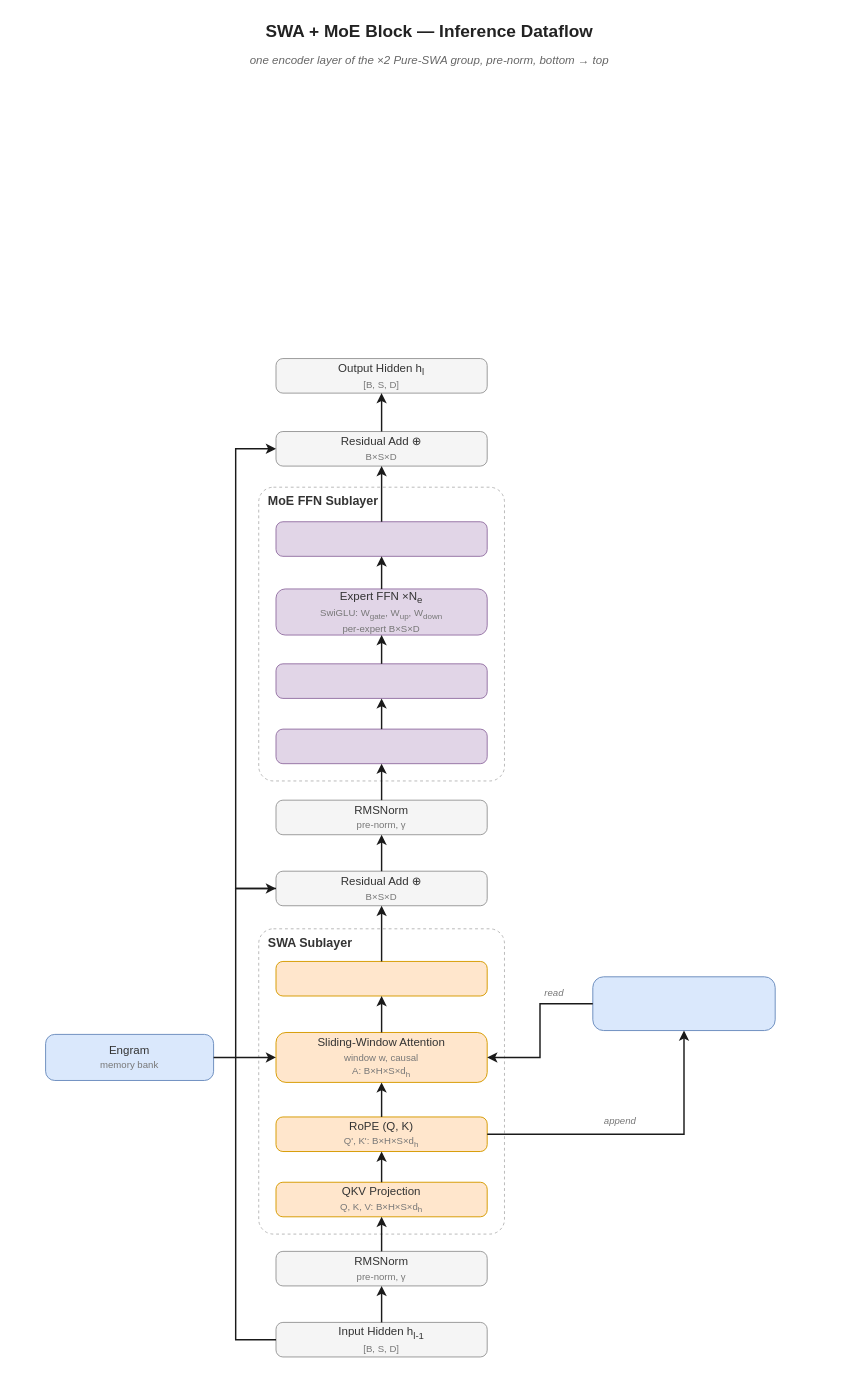
Image size: 858x1374. Some labels were removed from this diagram. The centre of each missing label's shape, as x and y in pixels:
"Expert Dispatch gather by expert" belongs at (381,680).
"KV Cache append, window evict B×H×w×d h" belongs at (683,1003).
"Output Projection W o B×S×D" belongs at (381,978).
"Router / Gate top-k → idx, w: B×S×k" belongs at (381,746).
"Weighted Combine scatter-add → B×S×D" belongs at (381,538).
